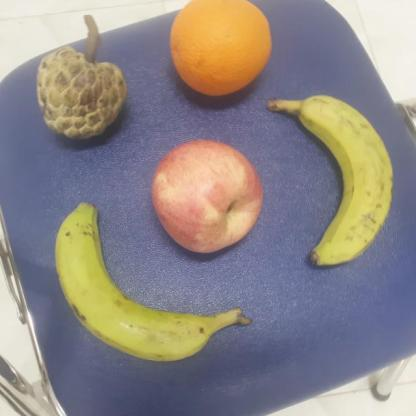annona: (33, 44, 129, 141)
apple: (148, 138, 264, 258)
banana: (52, 202, 254, 358), (266, 94, 395, 267)
orange: (167, 0, 274, 102)
